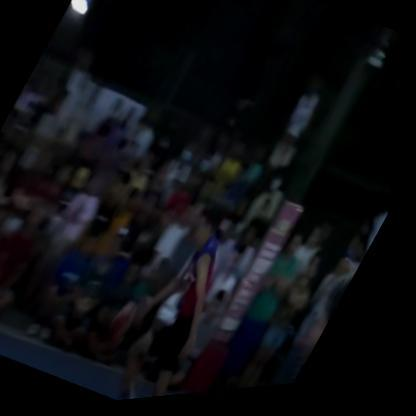basketball: (99, 292, 154, 362)
